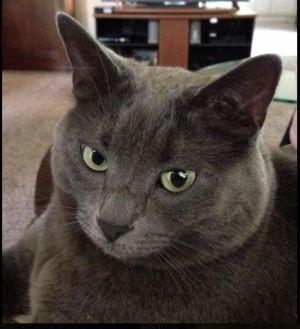rblue: (38, 4, 284, 276)
